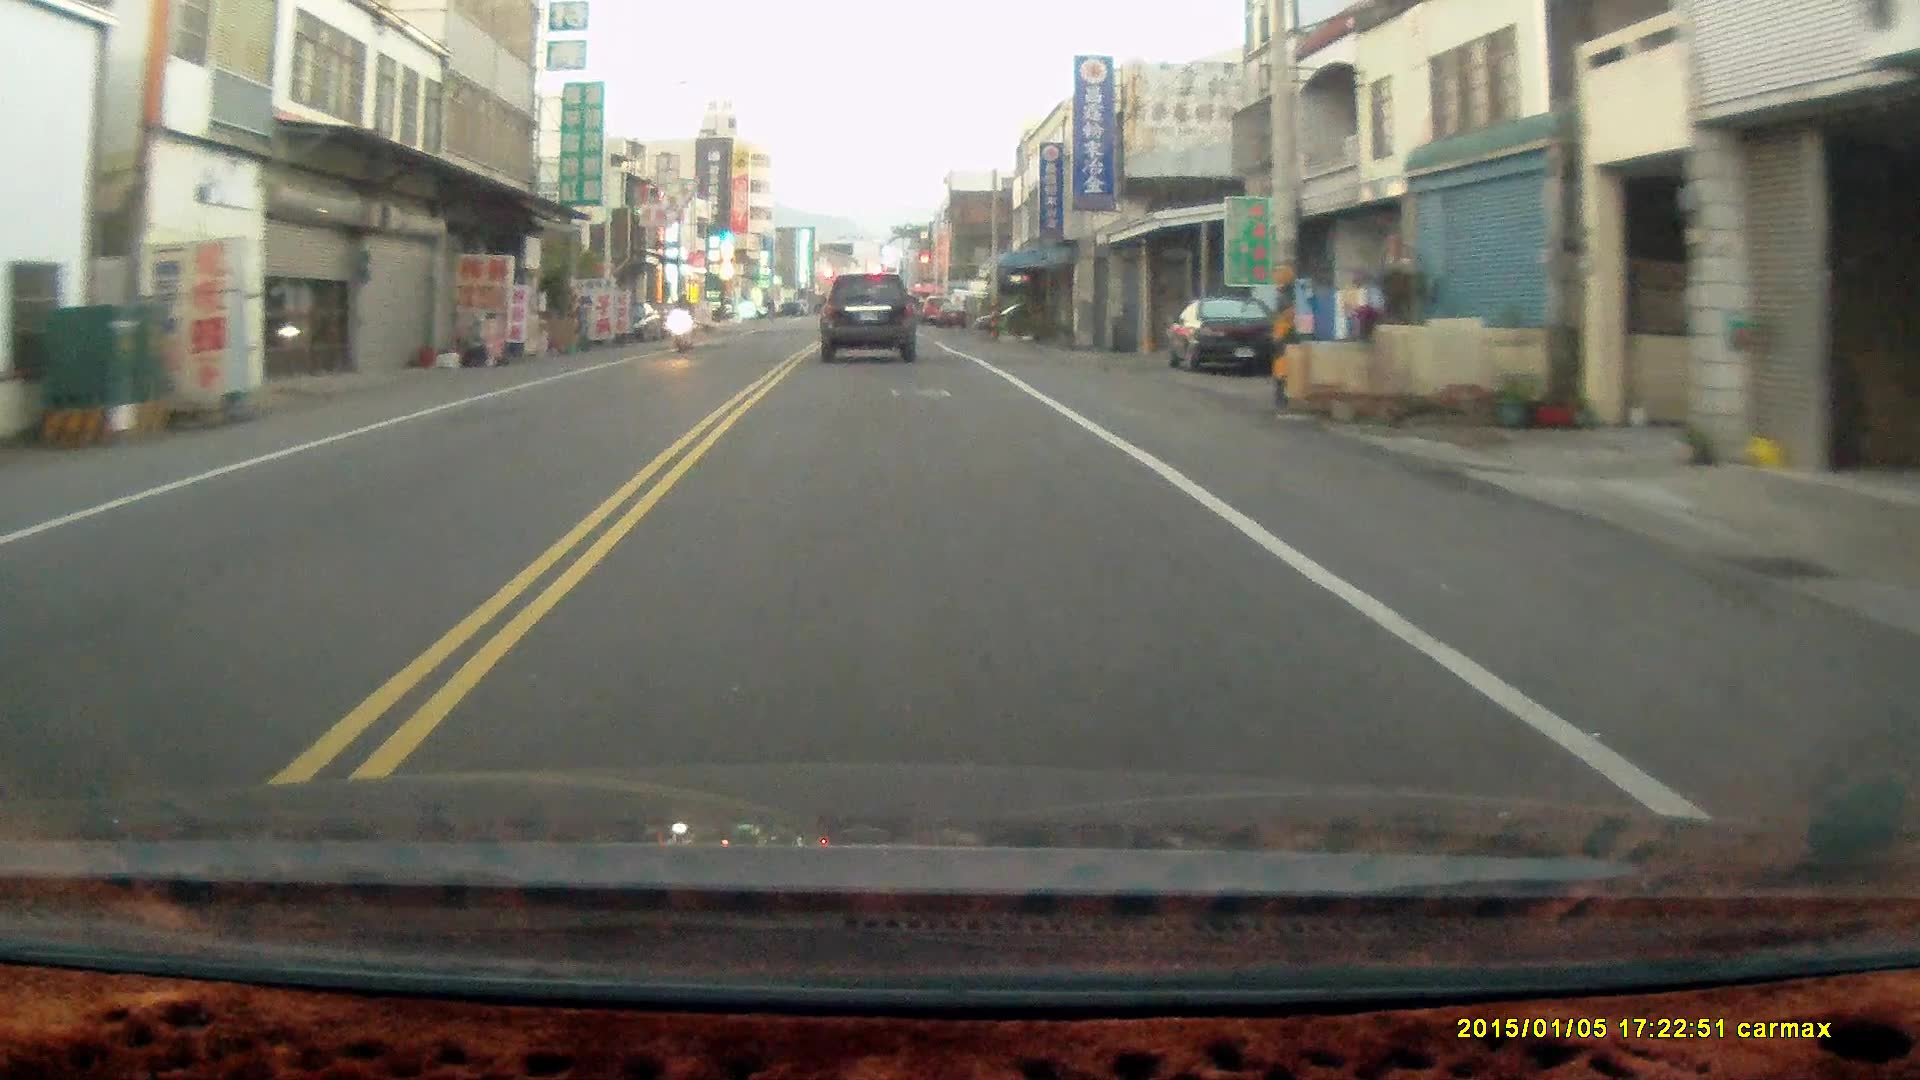rider: (667, 292, 695, 352)
vehicle: (1168, 298, 1291, 379), (822, 274, 921, 365)
